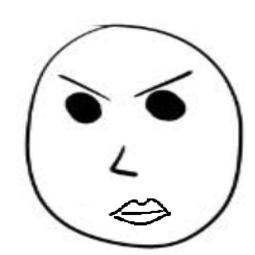cupid_mouth: (98, 192, 182, 230)
eye: (145, 89, 196, 131), (60, 89, 103, 129)
frowning_eyebrow: (134, 68, 195, 99), (55, 72, 112, 105)
pointy_nose: (101, 144, 143, 177)
